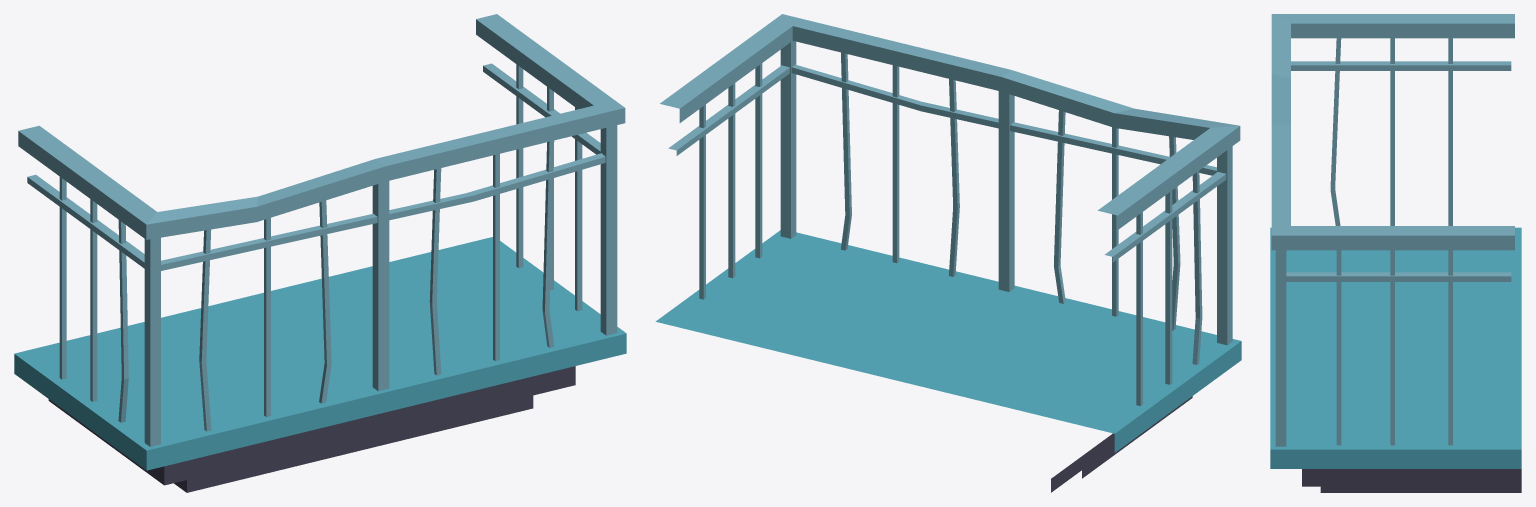
Rendered from SM_Bld_Cuba_Balcony_02.glb.
The picture shows the model from 3 angles, left to right: view 1: azimuth 30°, elevation 25°; view 2: azimuth 150°, elevation 25°; view 3: azimuth 270°, elevation 25°; orthographic projection. The views are drawn at different scales.
Parts seen in each view (by area): view 1: SM_Bld_Cuba_Balcony_02; view 2: SM_Bld_Cuba_Balcony_02; view 3: SM_Bld_Cuba_Balcony_02.
Part boxes in pixels (x1=…): SM_Bld_Cuba_Balcony_02: x1=14, y1=14, x2=626, y2=492; SM_Bld_Cuba_Balcony_02: x1=655, y1=14, x2=1241, y2=492; SM_Bld_Cuba_Balcony_02: x1=1270, y1=14, x2=1521, y2=492.
Size of the model in its own units: 0.0218 by 0.0131 by 0.0104.
